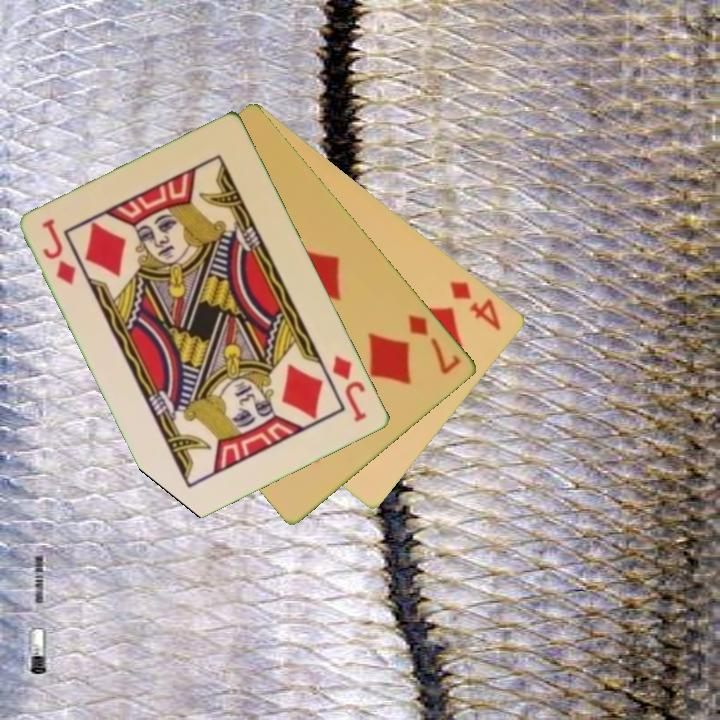4d: (446, 277, 505, 334)
7d: (405, 311, 465, 378)
Jd: (329, 352, 370, 425), (39, 215, 80, 288)
